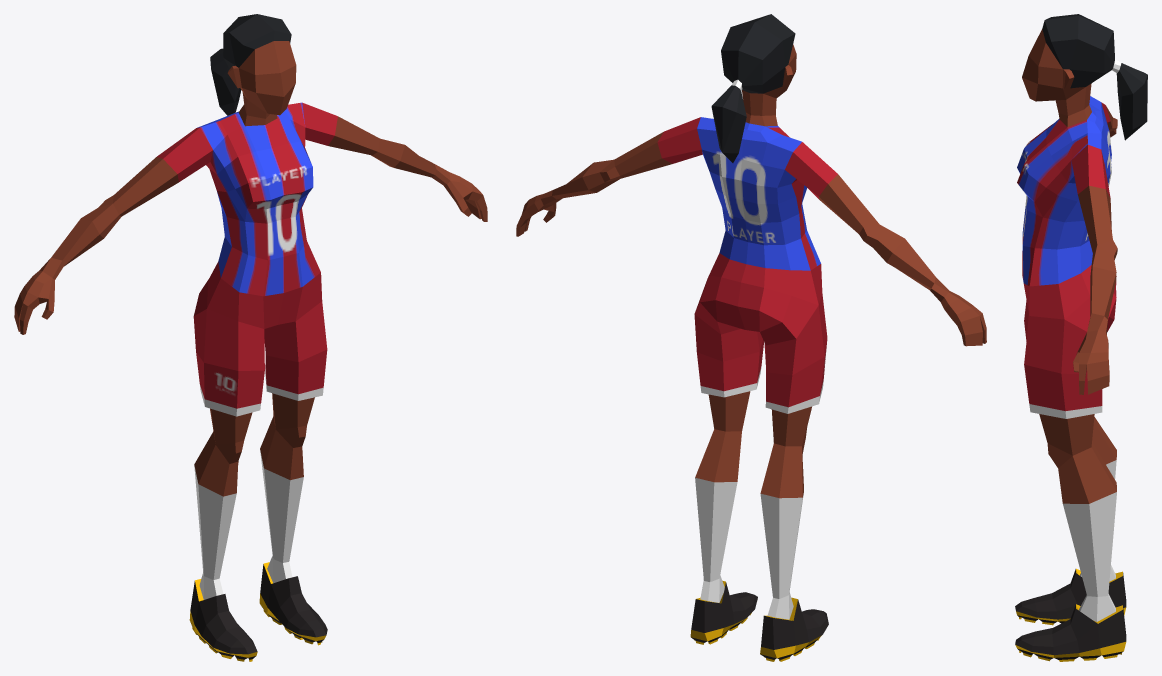
File: SoccerWomanB.gltf
3 views of the same model, side by side, from view 1: azimuth 30°, elevation 25°; view 2: azimuth 150°, elevation 25°; view 3: azimuth 270°, elevation 25° (orthographic).
Parts seen in each view (by area): view 1: Soccer Woman B; view 2: Soccer Woman B; view 3: Soccer Woman B.
Boxes of the visible parts, box(x1,y1,x2,y2) form: Soccer Woman B: box(14, 14, 487, 661); Soccer Woman B: box(516, 14, 986, 661); Soccer Woman B: box(1015, 14, 1147, 661).
Size of the model in its own units: 1.26 by 1.6 by 0.3088.
1 material, 1 textured.
